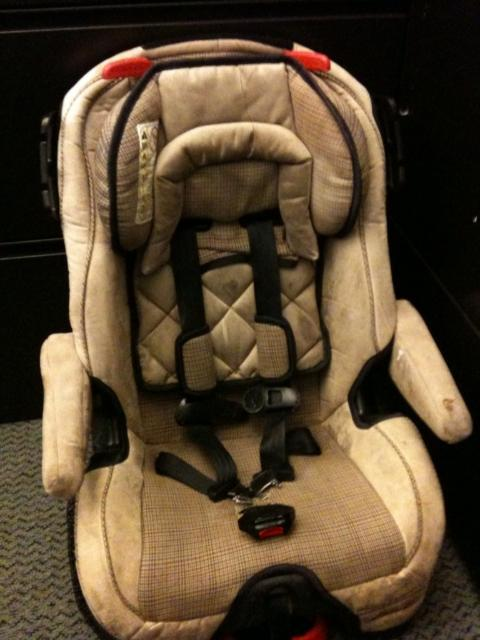Seatbelt: (154, 212, 320, 540)
